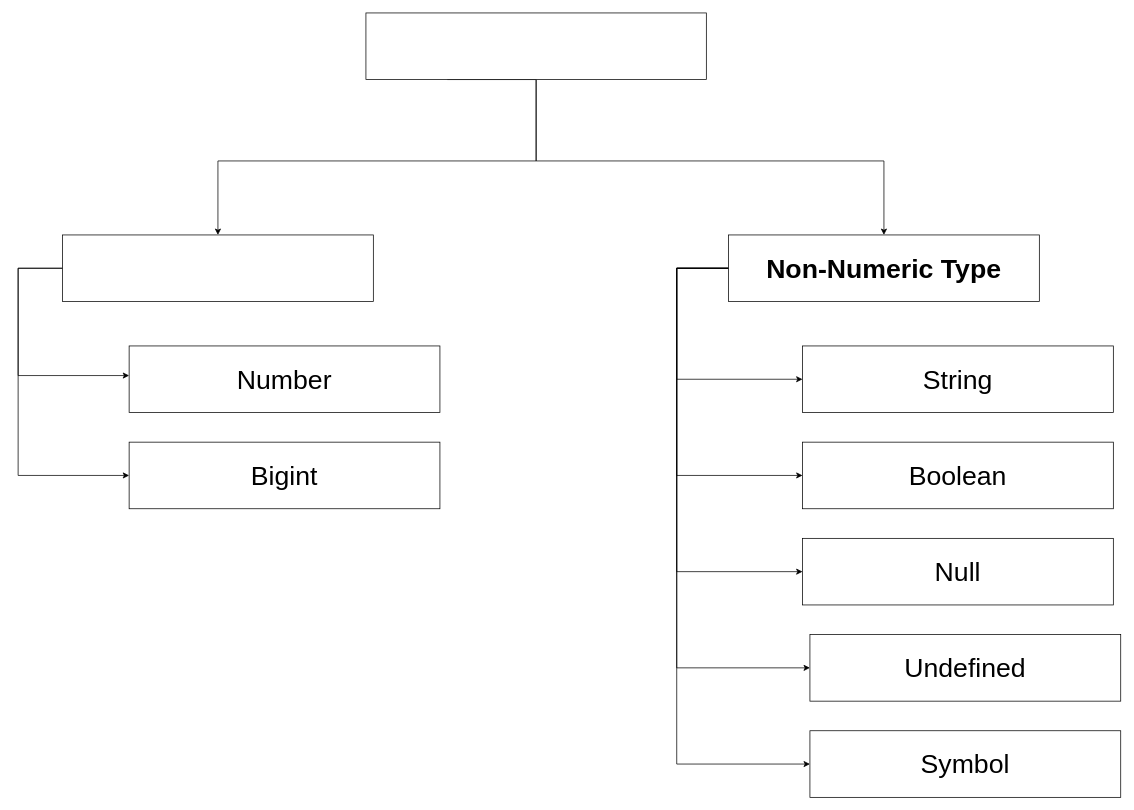
The diagram is 1134 pixels wide and 810 high, and some of its shapes have lost their labels. Each missing label, with the centre of its shape:
"Numeric Type" goes at (217,268).
"Primitive Data Types" goes at (535,46).
